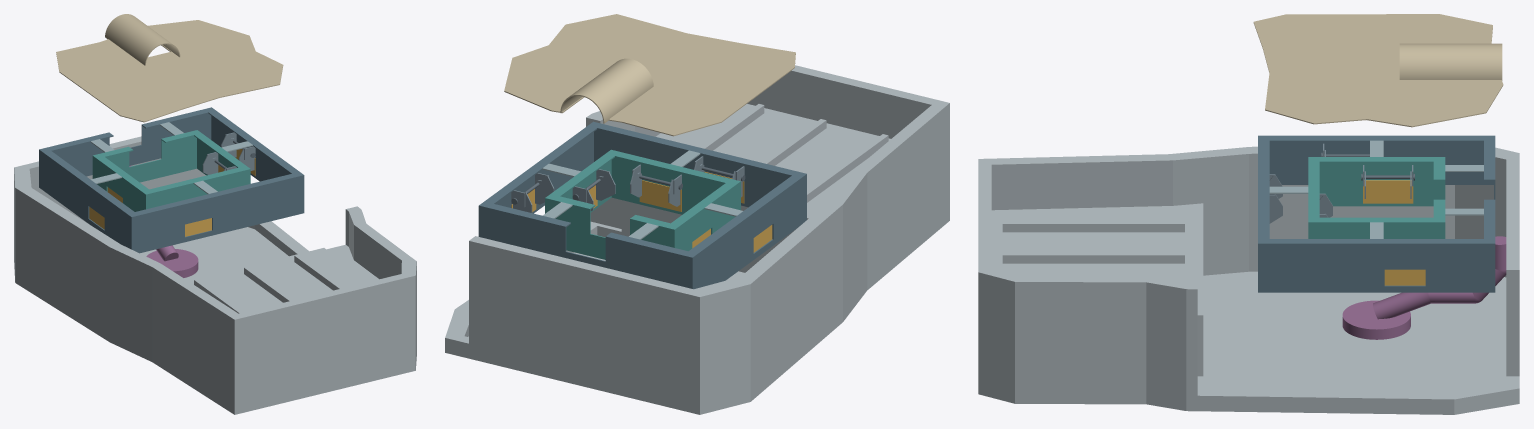
File: nested_pan_exploded.glb
3 renders of one model, left to right at view 1: azimuth 30°, elevation 25°; view 2: azimuth 150°, elevation 25°; view 3: azimuth 270°, elevation 25°, orthographic. The views are drawn at different scales.
Parts seen in each view (by area): view 1: nested_pan_exploded (×8); view 2: nested_pan_exploded (×8); view 3: nested_pan_exploded (×8).
Part boxes in pixels (x1,y1,x2,y2): nested_pan_exploded (×8): [14, 14, 416, 414]; nested_pan_exploded (×8): [445, 14, 949, 414]; nested_pan_exploded (×8): [978, 14, 1519, 414].
Bounding box in the file's own units: 0.316 × 0.283 × 0.4747.
